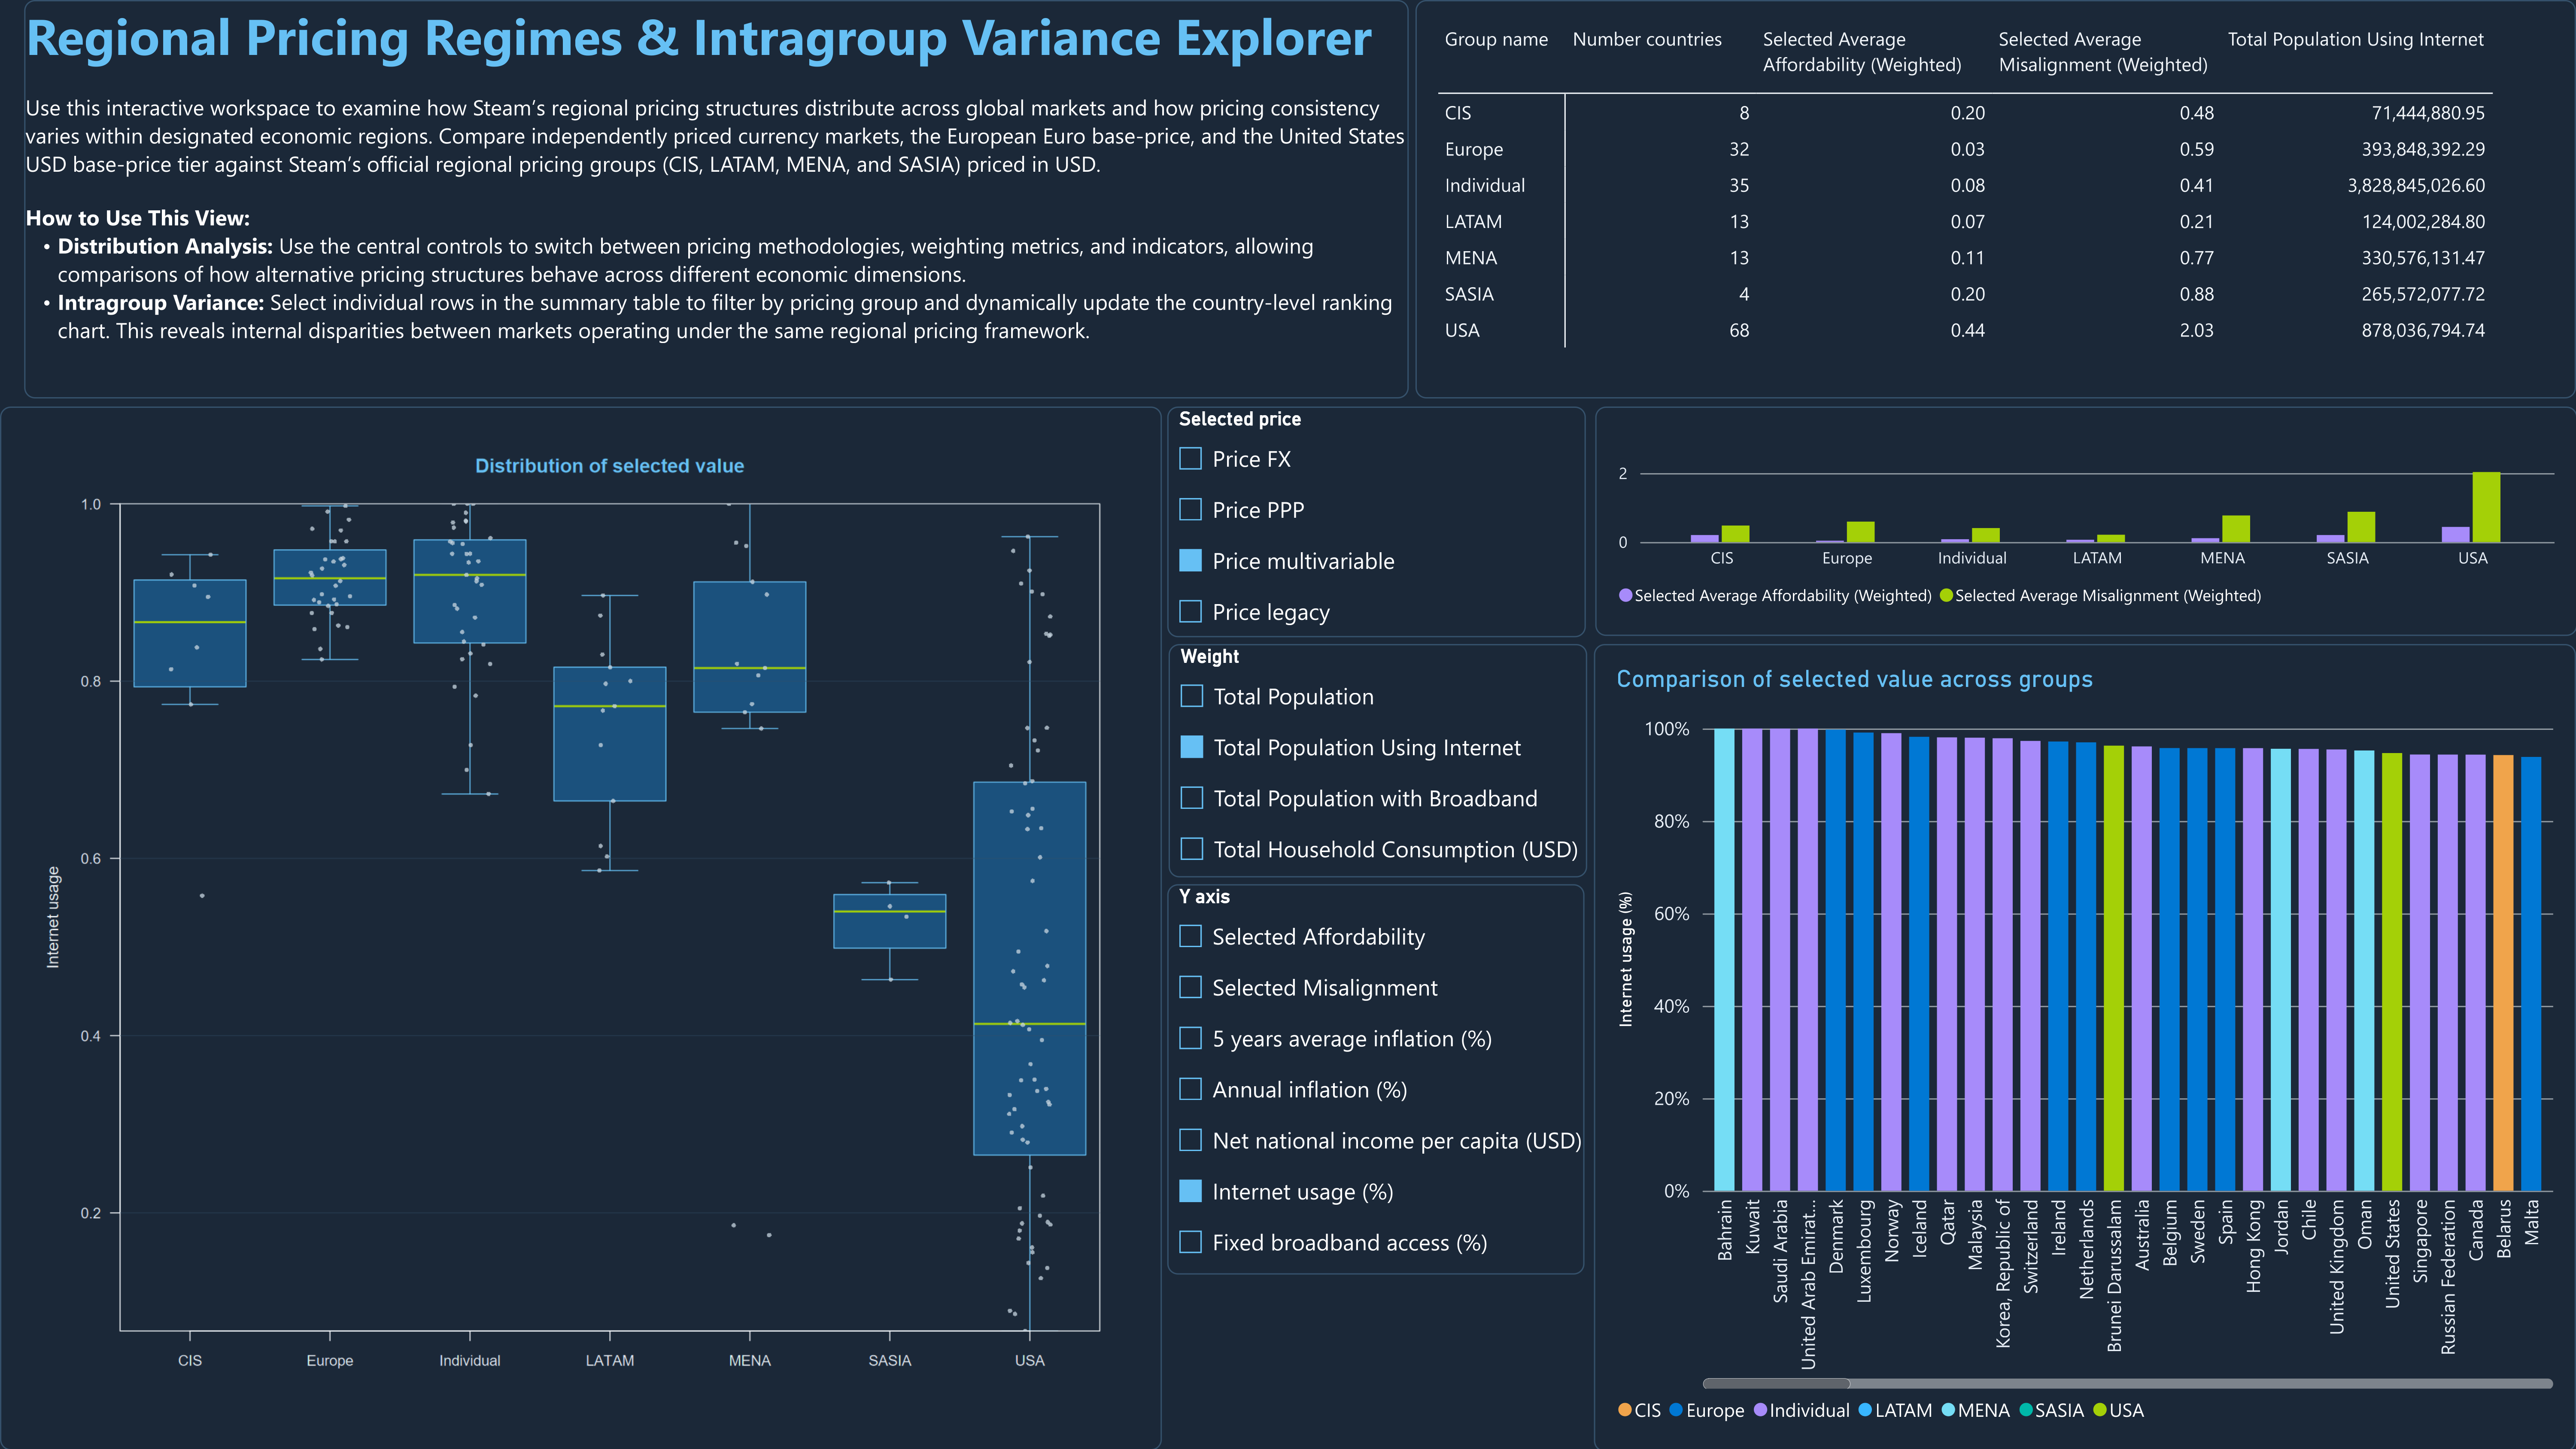

This screenshot's page, from the dashboard's own definition file:
{"tool":"powerbi","page":{"name":"Pricing regimes comparison","canvas":[1920,1080],"ordinal":2},"visuals":[{"type":"scriptVisual","title":"Distribution of selected value","fields":{"Values":["steam_regional_pricing_dataset.group_name","steam_regional_pricing_dataset.Selected Affordability","steam_regional_pricing_dataset.iso3"]},"box":[0,302.9,865.7,778.6],"z":0},{"type":"slicer","fields":{"Values":["Paramètre.Paramètre"]},"box":[870,302.9,311.7,171.7],"z":4000},{"type":"columnChart","title":"Comparison of selected value across groups","fields":{"Category":["steam_regional_pricing_dataset.country_name"],"Series":["steam_regional_pricing_dataset.group_name"],"Y":["steam_regional_pricing_dataset.Selected Affordability"]},"box":[1188.3,480,731.7,601.7],"z":6000},{"type":"textbox","box":[18.3,0,1031.7,296.7],"z":9000},{"type":"pivotTable","fields":{"Rows":["steam_regional_pricing_dataset.group_name"],"Values":["CountNonNull(steam_regional_pricing_dataset.iso3)","steam_regional_pricing_dataset.Selected Average Affordability (Weighted)","steam_regional_pricing_dataset.Selected Average Misalignment (Weighted)","steam_regional_pricing_dataset.Total Population Using Internet"]},"box":[1055,0,865,296.7],"z":10000},{"type":"slicer","fields":{"Values":["Weight.Weight"]},"box":[871.4,480,311.4,173.6],"z":11000},{"type":"lineClusteredColumnComboChart","fields":{"Category":["steam_regional_pricing_dataset.group_name"],"Y":["steam_regional_pricing_dataset.Selected Average Affordability (Weighted)","steam_regional_pricing_dataset.Selected Average Misalignment (Weighted)"]},"box":[1188.6,302.9,732.9,171.4],"z":12000},{"type":"slicer","fields":{"Values":["boxplot parameter.boxplot parameter"]},"box":[870,658.6,311.4,291.4],"z":13000}]}

Visuals, with their boxes in screenshot pixels (x1, y1, x2, y2), scaled from the page's 1920x1080 canvas onto the 2576x1449 screenshot:
"Distribution of selected value" scriptVisual: {"left": 0, "top": 407, "right": 1161, "bottom": 1449}
slicer - Paramètre.Paramètre: {"left": 1167, "top": 407, "right": 1586, "bottom": 637}
"Comparison of selected value across groups" columnChart: {"left": 1594, "top": 644, "right": 2576, "bottom": 1449}
textbox: {"left": 24, "top": 0, "right": 1409, "bottom": 398}
pivotTable - steam_regional_pricing_dataset.group_name x CountNonNull(steam_regional_pricing_dataset.iso3): {"left": 1416, "top": 0, "right": 2576, "bottom": 398}
slicer - Weight.Weight: {"left": 1169, "top": 644, "right": 1587, "bottom": 877}
lineClusteredColumnComboChart - steam_regional_pricing_dataset.group_name x steam_regional_pricing_dataset.Selected Average Affordability (Weighted): {"left": 1595, "top": 407, "right": 2576, "bottom": 636}
slicer - boxplot parameter.boxplot parameter: {"left": 1167, "top": 884, "right": 1585, "bottom": 1275}
